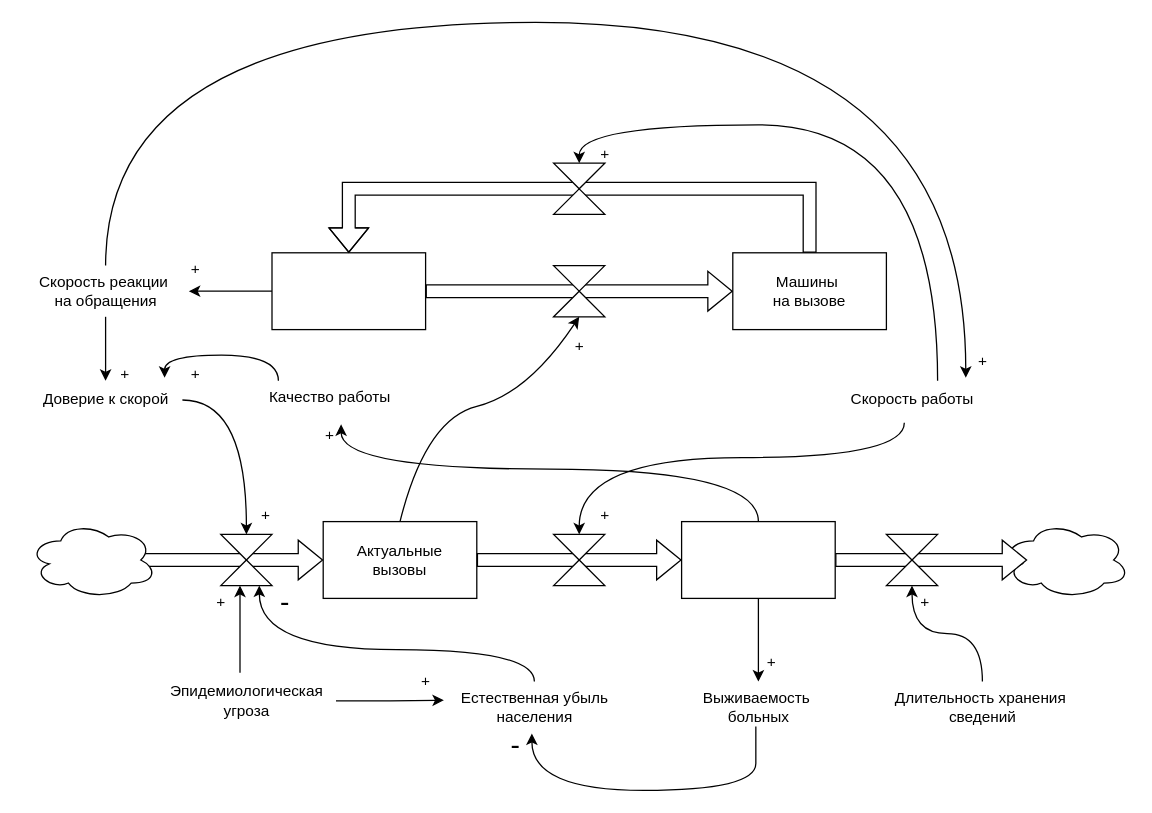
The diagram is 1152 pixels wide and 813 high, and some of its shapes have lost their labels. Each missing label, with the centre of its shape:
"Завершенные вызовы" goes at pixel 757 559.
"Свободные машины" goes at pixel 348 291.
